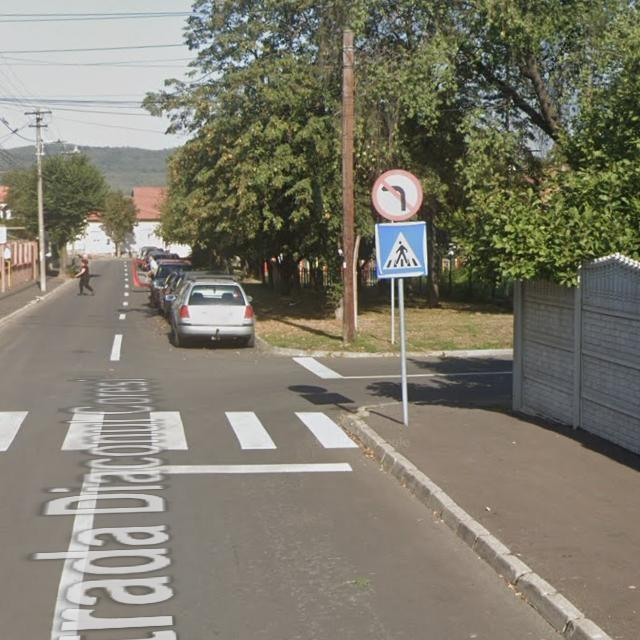info_crosswalk: (375, 221, 429, 278)
